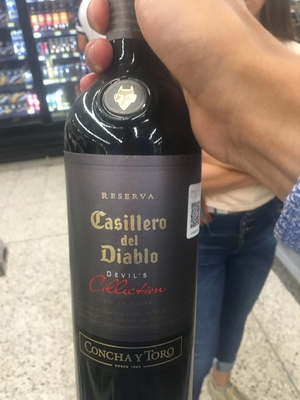casillero del diablo devils collection rojo: (61, 3, 218, 400)
